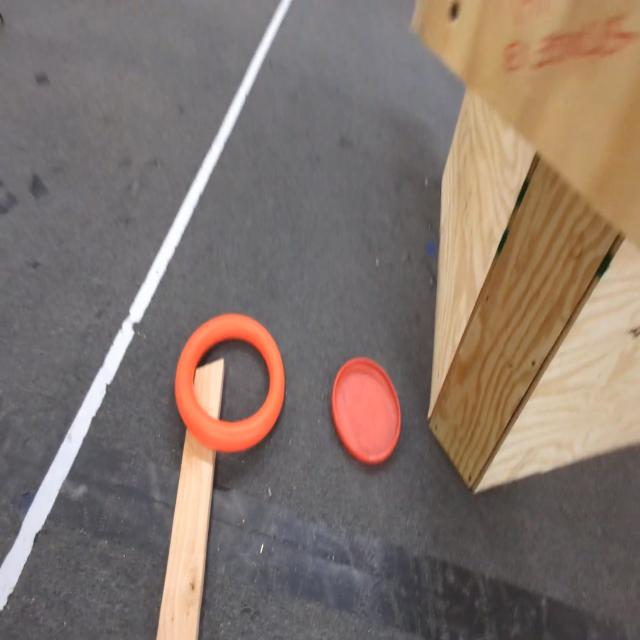note: (174, 316, 284, 451)
